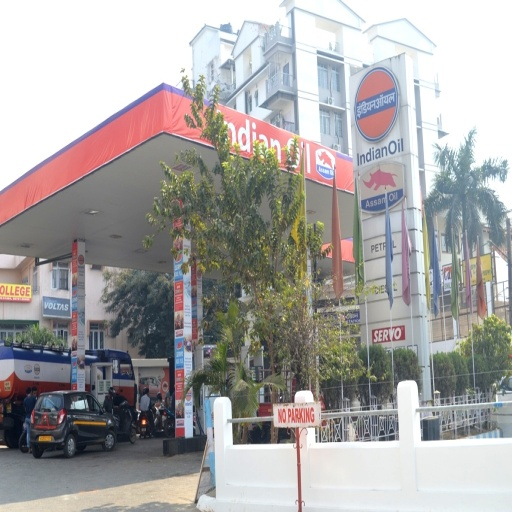roof: (1, 82, 418, 277)
